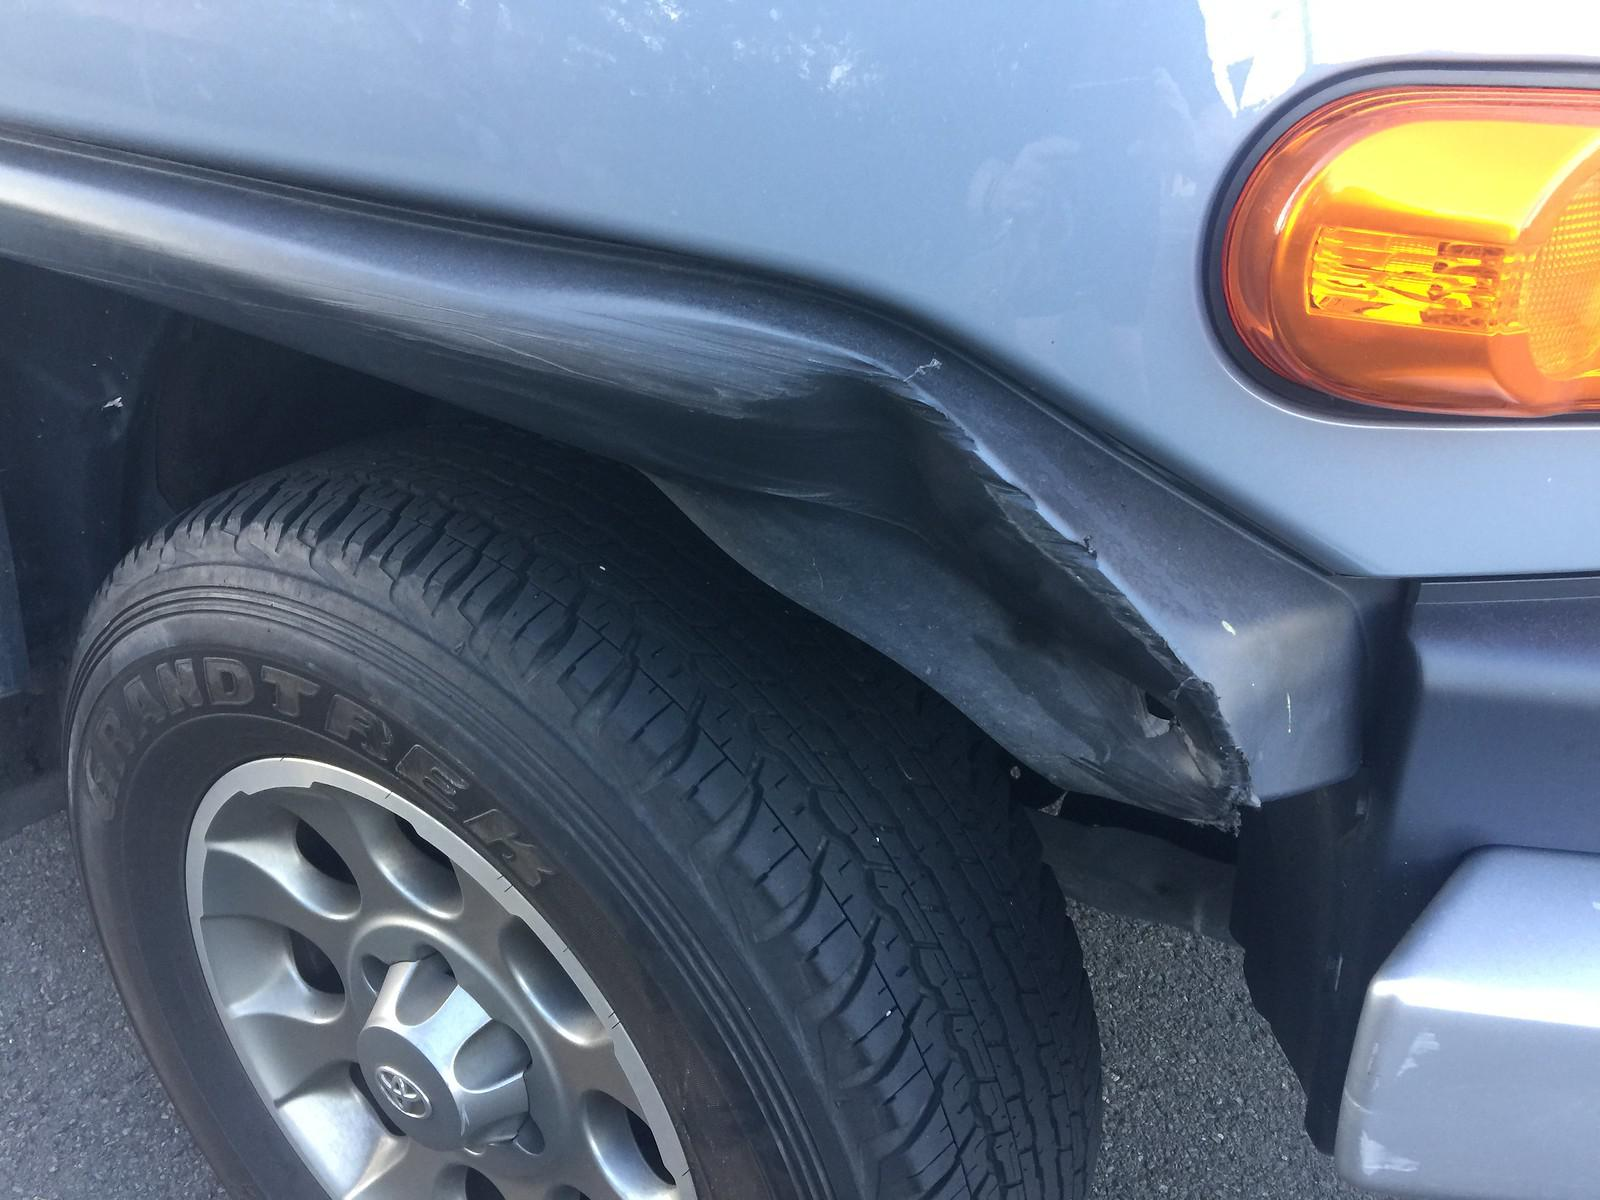fender-dent: (178, 213, 1473, 803)
